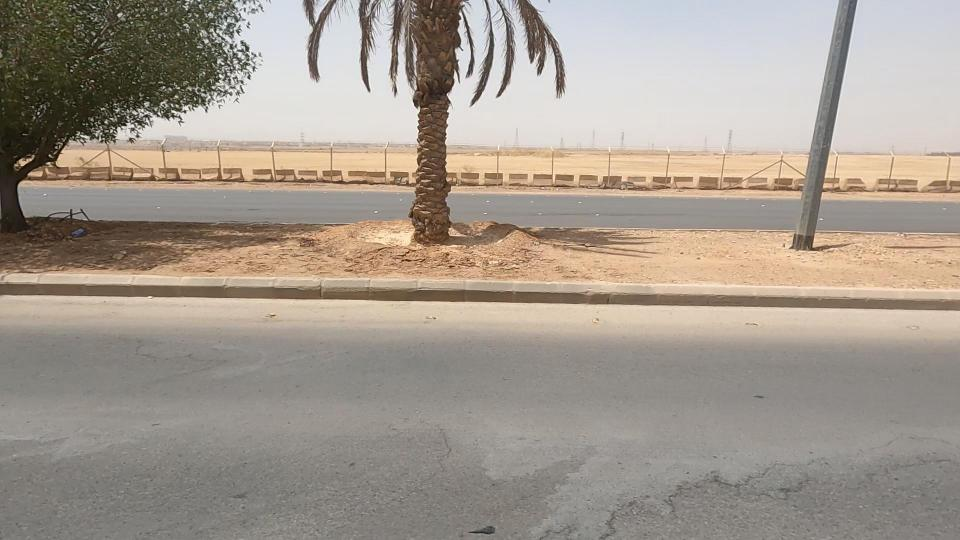CLUTTER_SIDEWALK: (357, 185, 930, 324), (0, 175, 488, 323)
GARBAGE: (21, 207, 119, 260)
